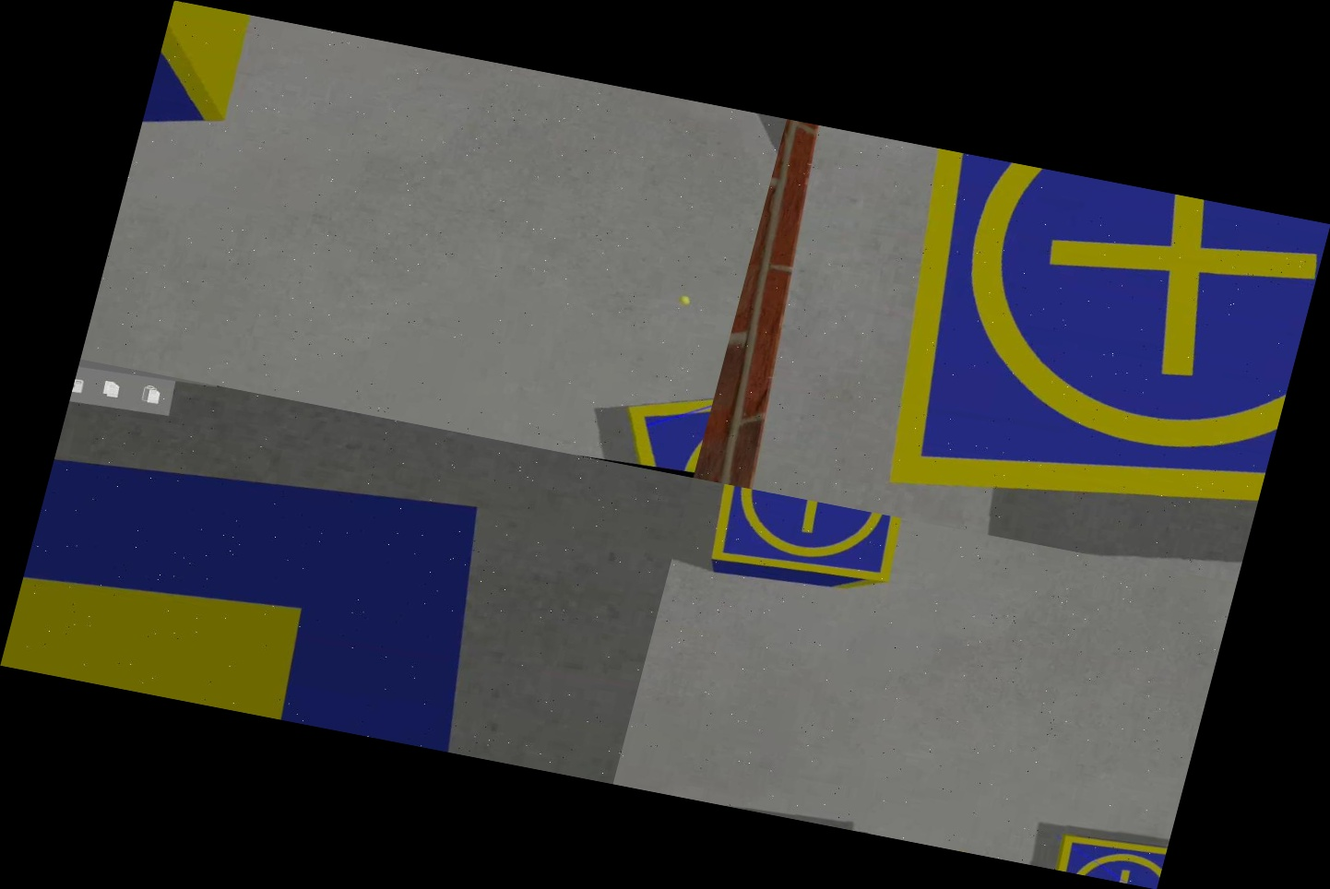large_base: (0, 422, 561, 761)
small_base: (835, 145, 1330, 556), (697, 482, 910, 596), (609, 342, 724, 476), (1051, 825, 1167, 889)
